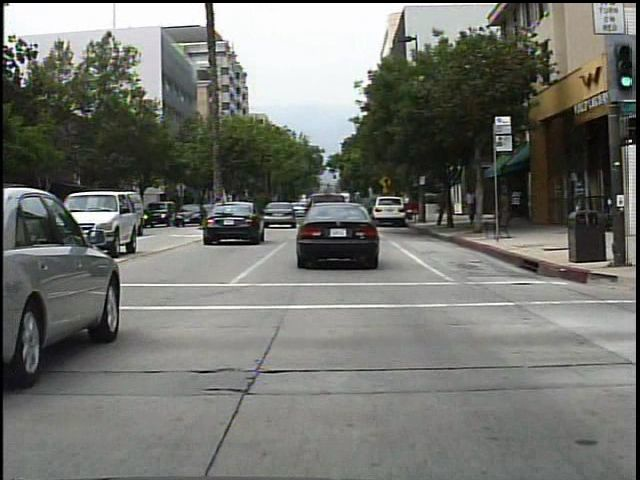person: (462, 187, 482, 230)
